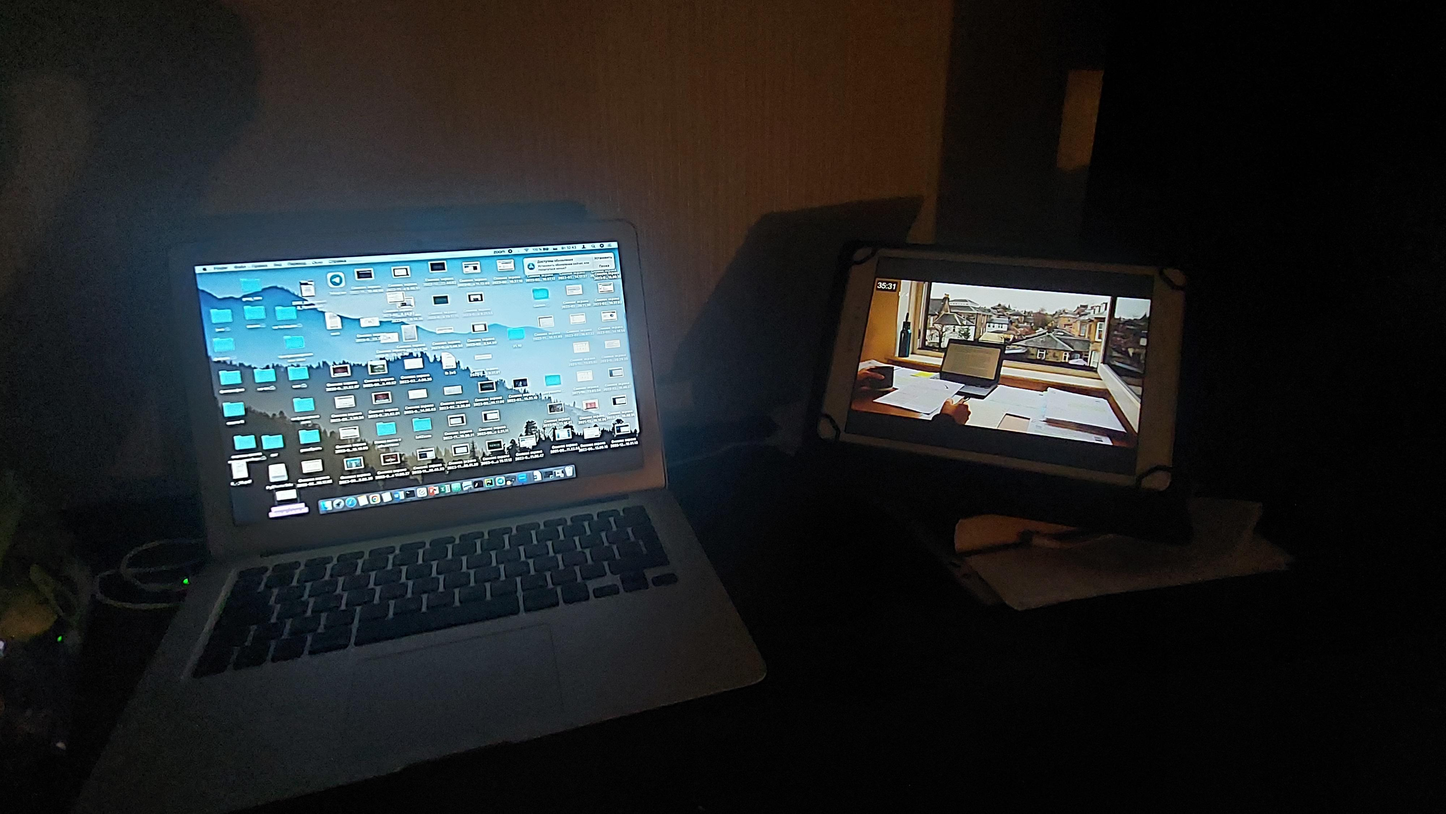monitor: (159, 213, 669, 571), (810, 249, 1204, 499)
